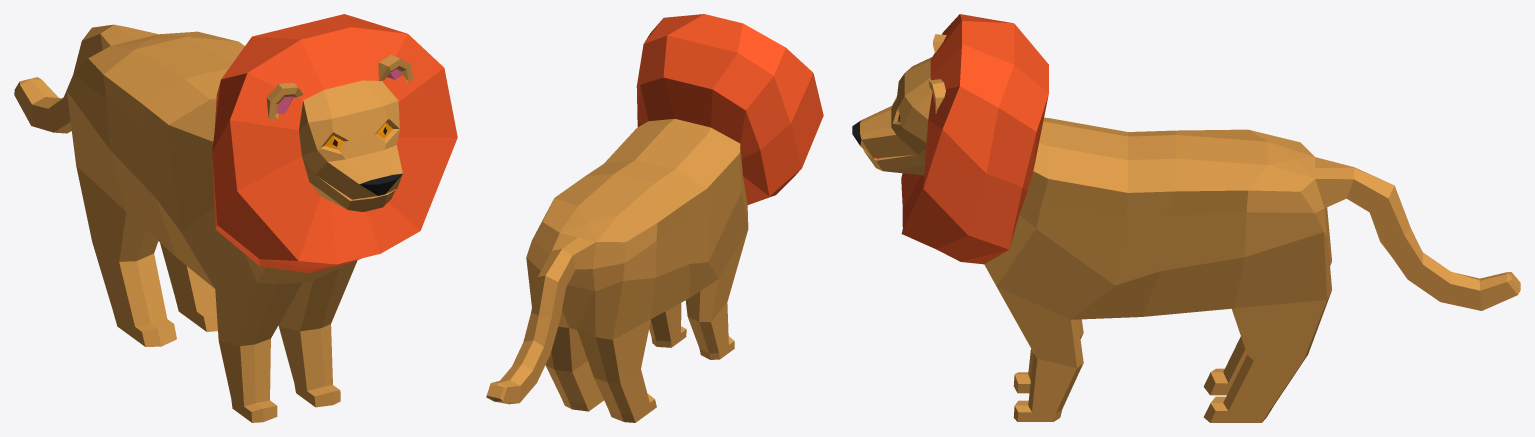
File: Lion_01.obj
3 views of the same model, side by side, from view 1: azimuth 30°, elevation 25°; view 2: azimuth 150°, elevation 25°; view 3: azimuth 270°, elevation 25° (orthographic). The views are drawn at different scales.
Visible parts, largest first — view 1: Lion_01_Circle.005; view 2: Lion_01_Circle.005; view 3: Lion_01_Circle.005.
Boxes of the visible parts, box(x1,y1,x2,y2) form: Lion_01_Circle.005: box(14, 14, 457, 422); Lion_01_Circle.005: box(486, 14, 823, 422); Lion_01_Circle.005: box(852, 14, 1520, 422).
Bounding box in the file's own units: 5.04 × 8.75 × 14.34.
